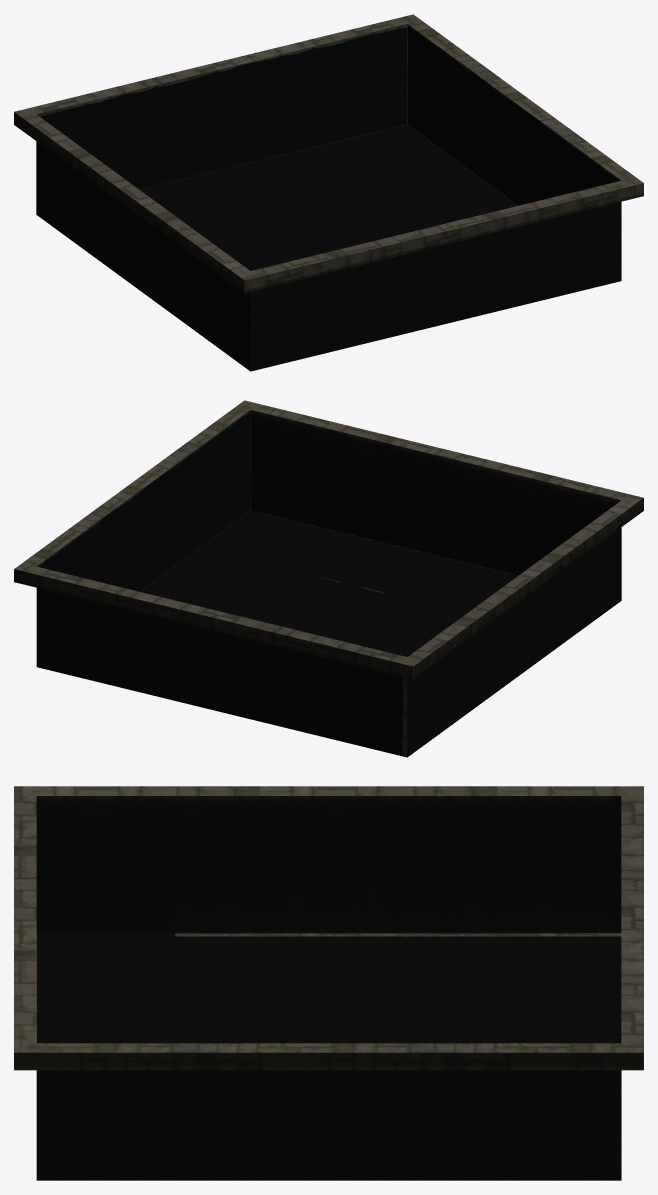
The model's file is Pond.obj.
3 renders of one model, top to bottom at view 1: azimuth 30°, elevation 25°; view 2: azimuth 150°, elevation 25°; view 3: azimuth 270°, elevation 25°, orthographic. The views are drawn at different scales.
Parts seen in each view (by area): view 1: Pond_Grid.002; view 2: Pond_Grid.002; view 3: Pond_Grid.002.
Boxes of the visible parts, x1,y1,x2,y2 form: Pond_Grid.002: [14, 14, 643, 371]; Pond_Grid.002: [14, 400, 643, 757]; Pond_Grid.002: [14, 786, 643, 1180].
Size of the model in its own units: 28.57 by 6.87 by 28.57.
